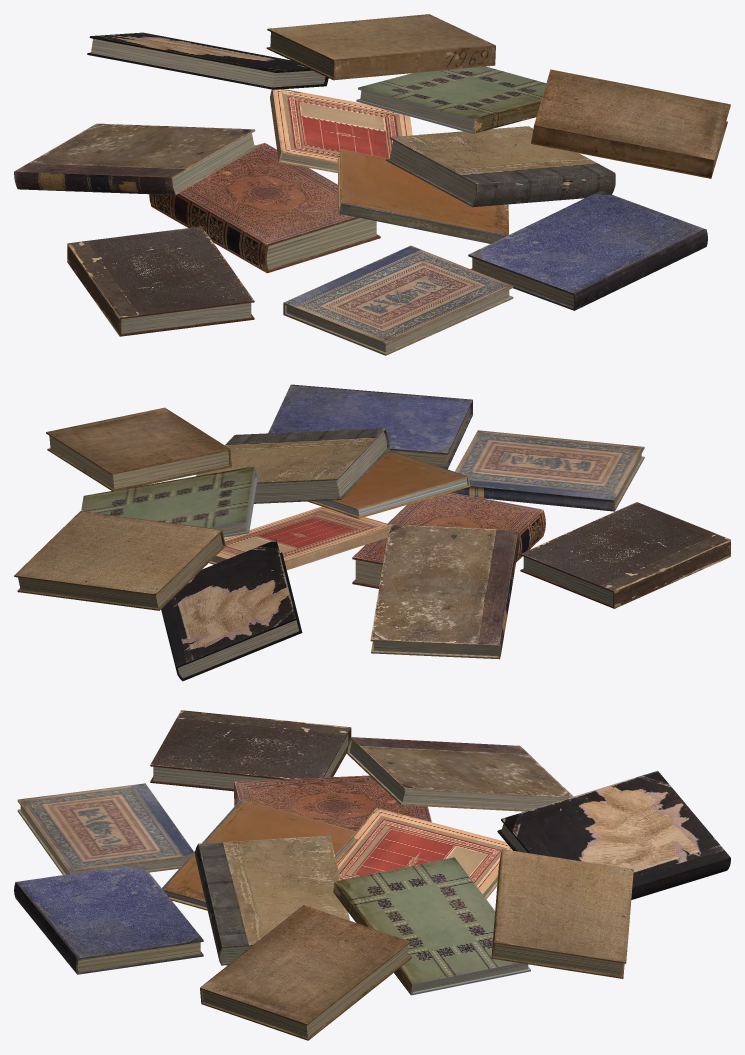
File: coti_12_old_books.glb
3 renders of one model, top to bottom at view 1: azimuth 30°, elevation 25°; view 2: azimuth 150°, elevation 25°; view 3: azimuth 270°, elevation 25°, orthographic. The views are drawn at different scales.
Visible parts, largest first — view 1: Book10_Book10_0; view 2: Book10_Book10_0; view 3: Book10_Book10_0.
Part boxes in pixels (<box>): Book10_Book10_0: <box>14,14,730,355</box>; Book10_Book10_0: <box>14,384,730,681</box>; Book10_Book10_0: <box>14,710,730,1040</box>.
Size of the model in its own units: 0.9 by 0.08 by 0.8685.
Materials: 12 (12 with a texture image).
